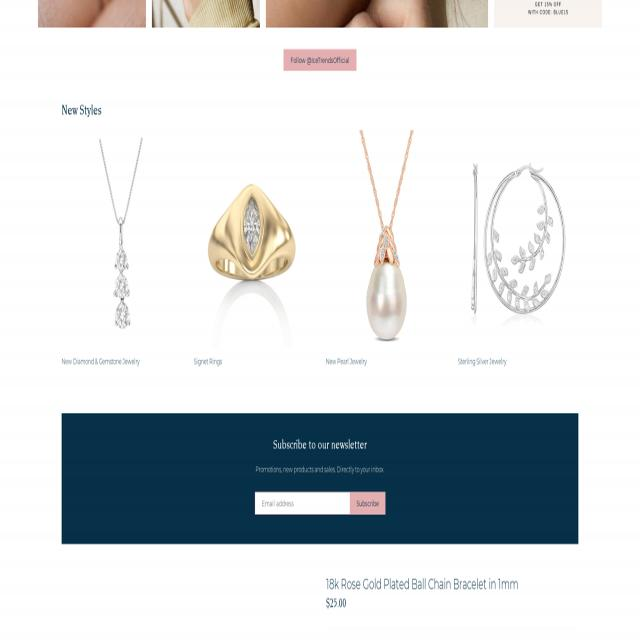button: (458, 130, 578, 347), (62, 130, 182, 347), (194, 130, 314, 347), (326, 130, 446, 347), (266, 0, 488, 28), (38, 0, 146, 28), (152, 0, 260, 28), (284, 50, 356, 71), (350, 492, 386, 514)
field: (255, 492, 385, 514)
